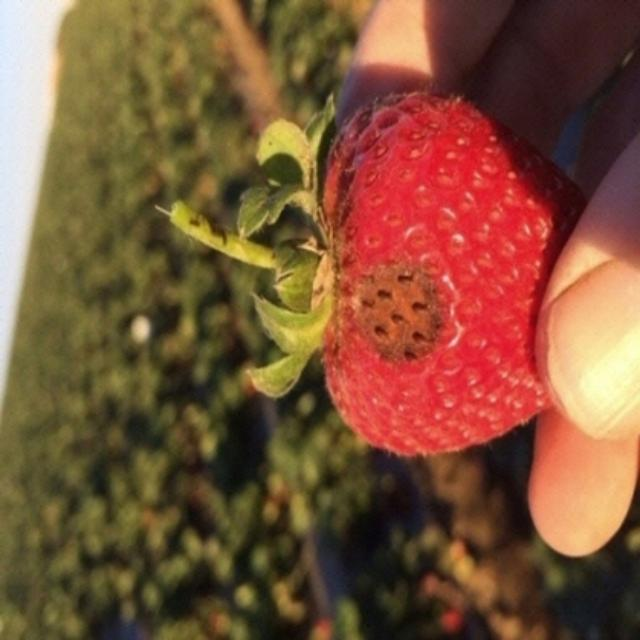Anthracnose Fruit Rot: (349, 261, 456, 364)
